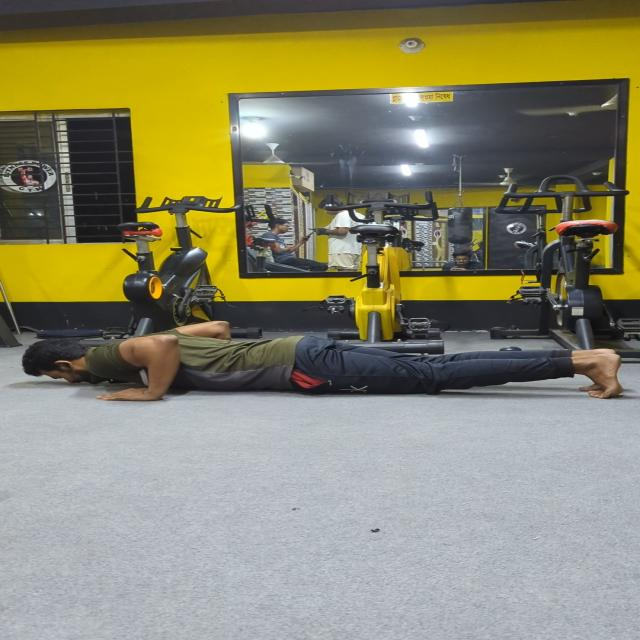Normal_PushUps: (0, 276, 640, 484)
